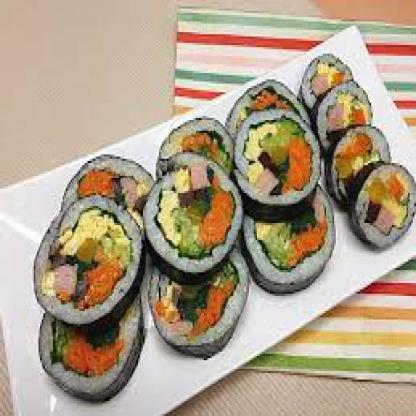rice: (43, 84, 406, 332)
